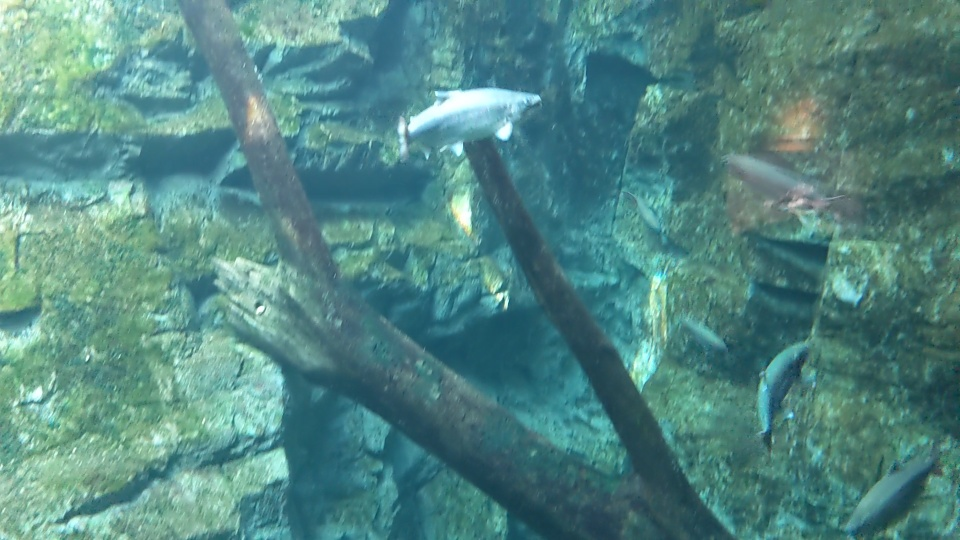Fish: (397, 86, 539, 162), (712, 145, 854, 215), (839, 439, 945, 531), (756, 335, 814, 460), (616, 176, 656, 237), (677, 310, 729, 350)
